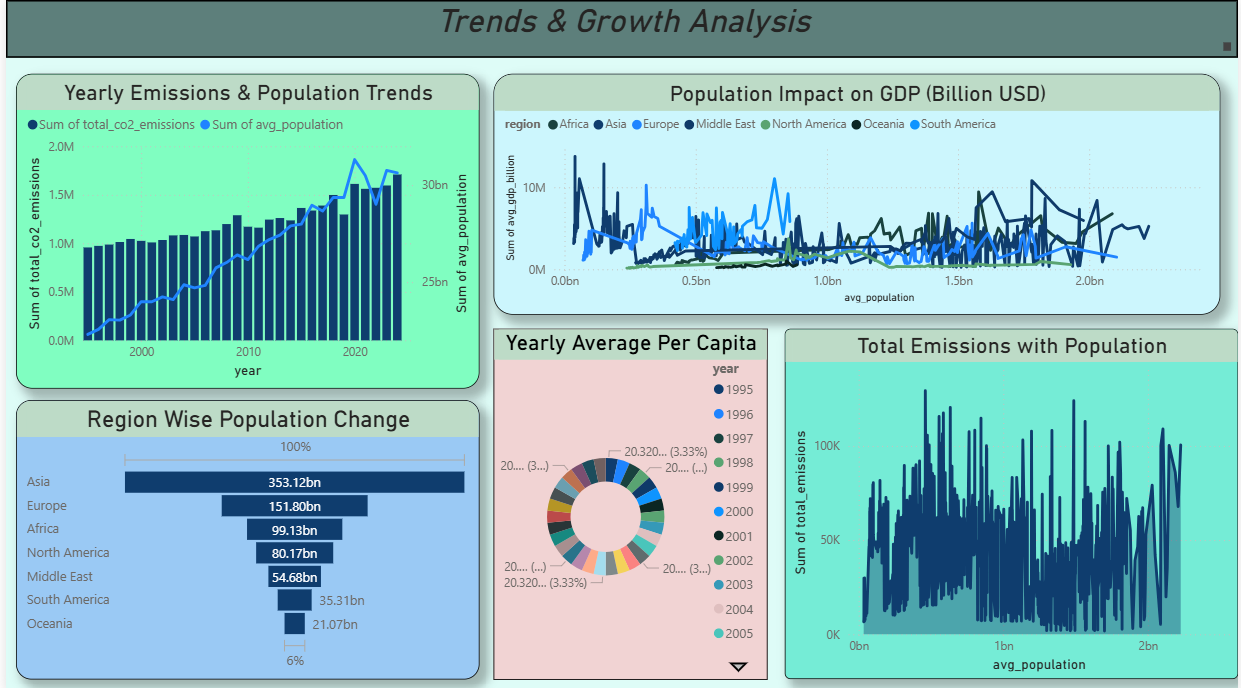

This screenshot's page, from the dashboard's own definition file:
{"tool":"powerbi","page":{"name":"Trends & Growth Analysis","canvas":[1280,720],"ordinal":1},"visuals":[{"type":"textbox","title":"Trends & Growth Analysis","box":[0,0,1280,60],"z":0},{"type":"lineStackedColumnComboChart","title":"Yearly Emissions & Population Trends","fields":{"Y":["Sum(yearly_emissions_trend.total_co2_emissions)"],"Category":["dim_year.year"],"Y2":["Sum(economic_emissions_analysis.avg_population)"]},"box":[10,77.1,481.4,327.1],"z":1000},{"type":"funnel","title":"Region Wise Population Change","fields":{"Category":["economic_emissions_analysis.region"],"Y":["Sum(economic_emissions_analysis.avg_population)"]},"box":[10,415,481.7,290],"z":2000},{"type":"lineChart","title":"Population Impact on GDP (Billion USD)","fields":{"Series":["economic_emissions_analysis.region"],"Y":["Sum(economic_emissions_analysis.avg_gdp_billion)"],"Category":["economic_emissions_analysis.avg_population"]},"box":[506.7,76.7,755,250],"z":3000},{"type":"donutChart","title":"Yearly Average Per Capita ","fields":{"Category":["yearly_emissions_trend.year"],"Y":["Sum(scenario_environment_impact.avg_co2_per_capita)"]},"box":[506.7,341.7,285,365],"z":4000},{"type":"areaChart","title":"Total Emissions  with Population","fields":{"Y":["Sum(economic_emissions_analysis.total_emissions)"],"Category":["economic_emissions_analysis.avg_population"]},"box":[808.6,341.4,471.4,364.3],"z":5000}]}

Visuals, with their boxes in screenshot pixels (x1, y1, x2, y2), scaled from the page's 1280x720 canvas onto the 1241x688 screenshot:
"Trends & Growth Analysis" textbox: <bbox>0, 0, 1240, 57</bbox>
"Yearly Emissions & Population Trends" lineStackedColumnComboChart: <bbox>10, 74, 476, 386</bbox>
"Region Wise Population Change" funnel: <bbox>10, 397, 477, 674</bbox>
"Population Impact on GDP (Billion USD)" lineChart: <bbox>491, 73, 1223, 312</bbox>
"Yearly Average Per Capita " donutChart: <bbox>491, 327, 768, 675</bbox>
"Total Emissions  with Population" areaChart: <bbox>784, 326, 1240, 674</bbox>
